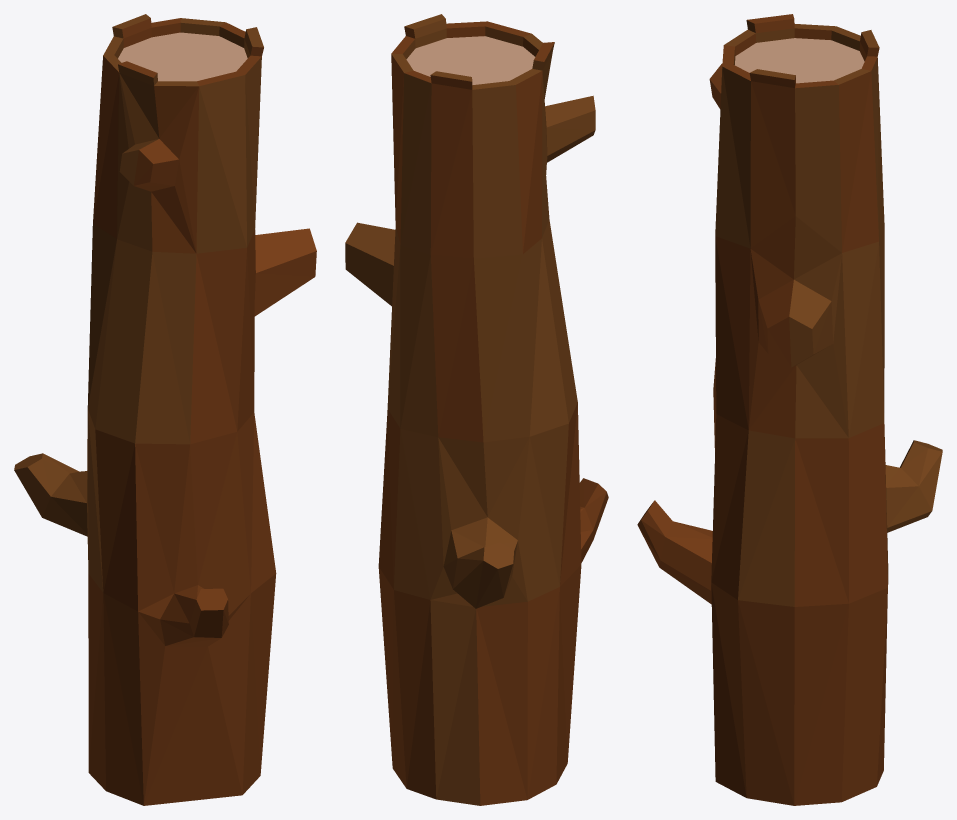
The model's file is Wkopany_Pien.fbx.
The picture shows the model from 3 angles, left to right: view 1: azimuth 30°, elevation 25°; view 2: azimuth 150°, elevation 25°; view 3: azimuth 270°, elevation 25°; orthographic projection.
Visible parts, largest first — view 1: log; view 2: log; view 3: log.
Part boxes in pixels (x1,y1,x2,y2): log: (14, 14, 316, 805); log: (345, 14, 608, 805); log: (637, 14, 942, 805).
Bounding box in the file's own units: 18.56 × 56.75 × 21.57.
